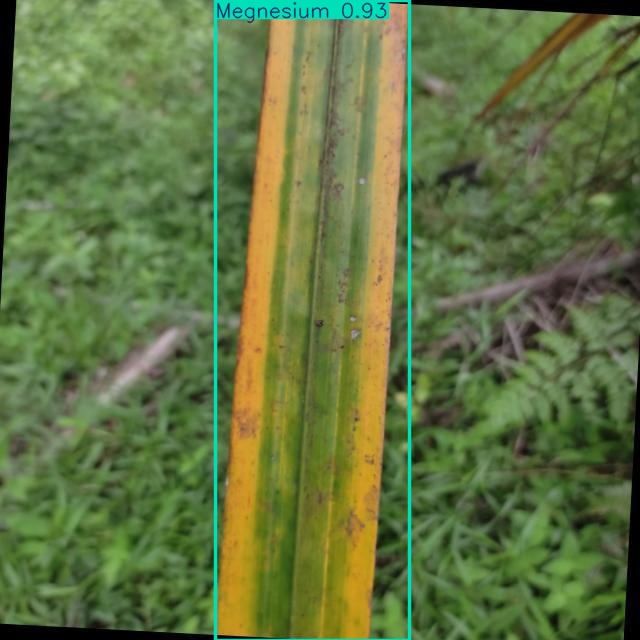Megnesium: (215, 0, 409, 640)
